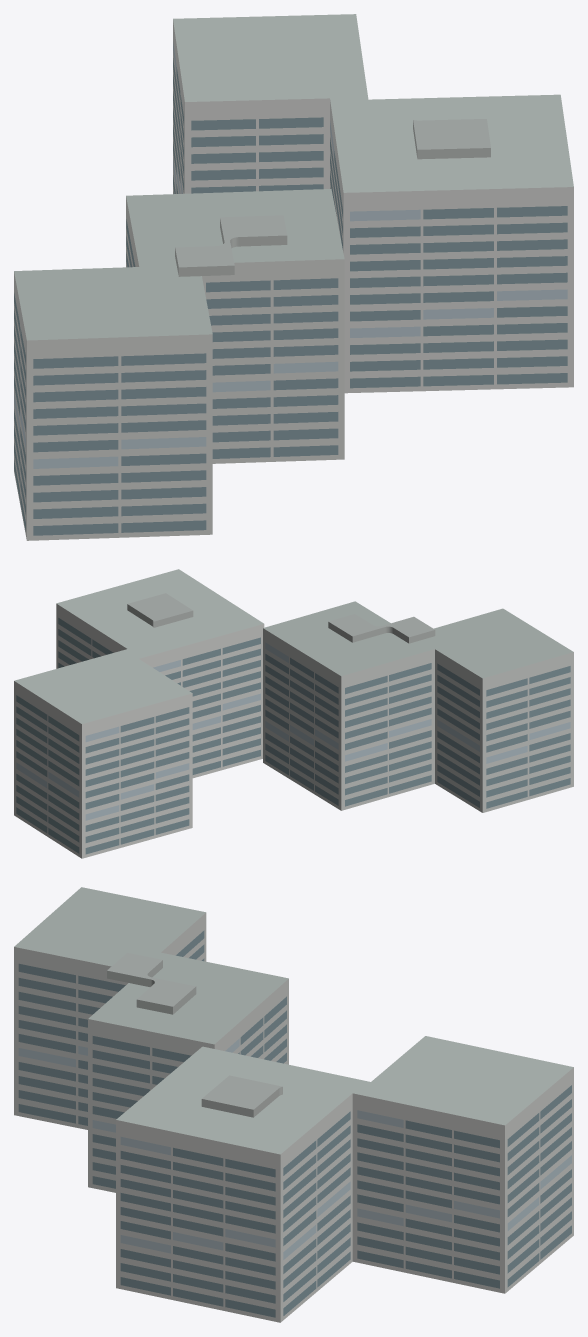
File: apt-a13887901.glb
3 views of the same model, one above another, from view 1: azimuth 30°, elevation 25°; view 2: azimuth 150°, elevation 25°; view 3: azimuth 270°, elevation 25° (orthographic). The views are drawn at different scales.
Visible parts, largest first — view 1: apt-a13887901; view 2: apt-a13887901; view 3: apt-a13887901.
Boxes of the visible parts, left/top/right/bottom form: apt-a13887901: left=14, top=14, right=573, bottom=540; apt-a13887901: left=14, top=569, right=573, bottom=858; apt-a13887901: left=14, top=887, right=573, bottom=1322.
Bounding box in the file's own units: 97.61 × 30 × 86.38.
